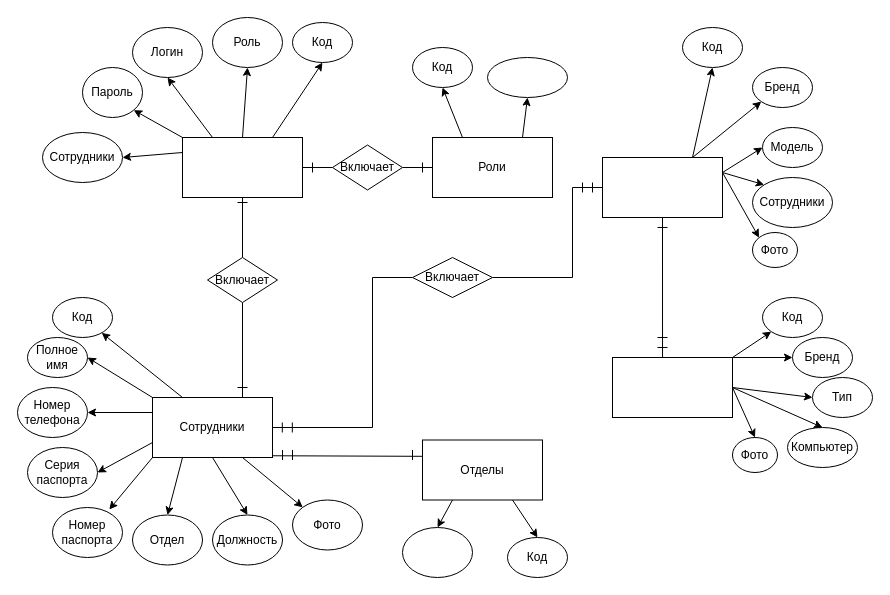
Image size: 890x595. Some labels were removed from this diagram. Here are the shapes that lost their labels. From the top down, the centre of each, then its label:
(527,77): Название роли
(242,167): Пользователи
(662,187): Компьютерные технологии
(672,387): Периферийные устройства
(437,552): Название отдела
